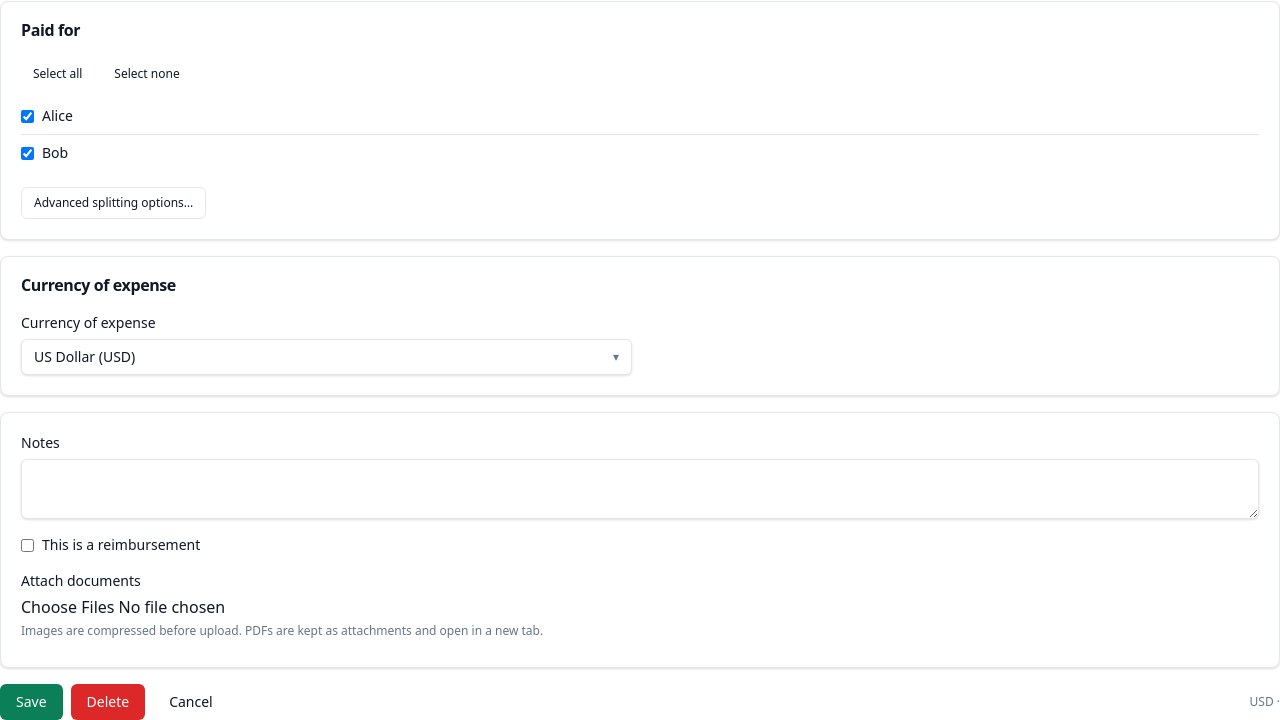
ExpenseForm › shows a conflict message and stays on the form when the update is rejected
The image size is (1280, 720).
(page scrolled)
Click the button "Save".
click(31, 702)  # box [0,684,63,719]
(page scrolled)
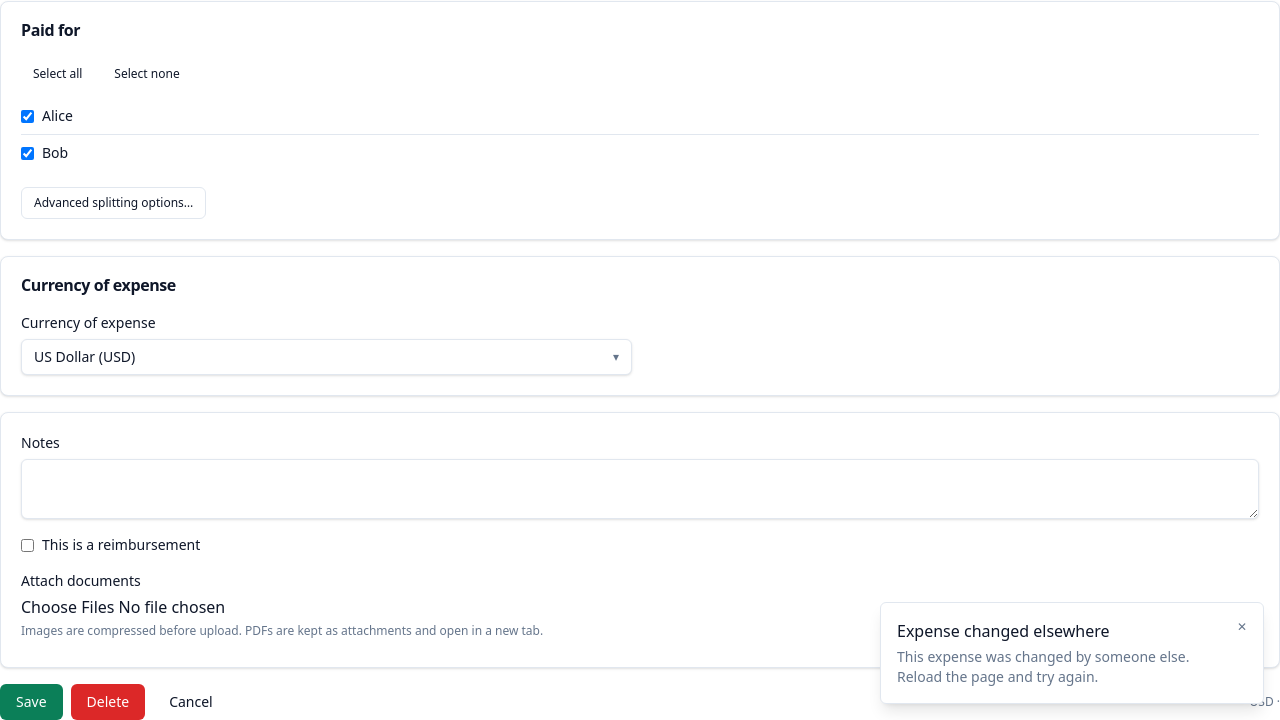
Result: the message shows "This expense was changed by someone else. Reload the page and try again." at [897,647,1190,686]
